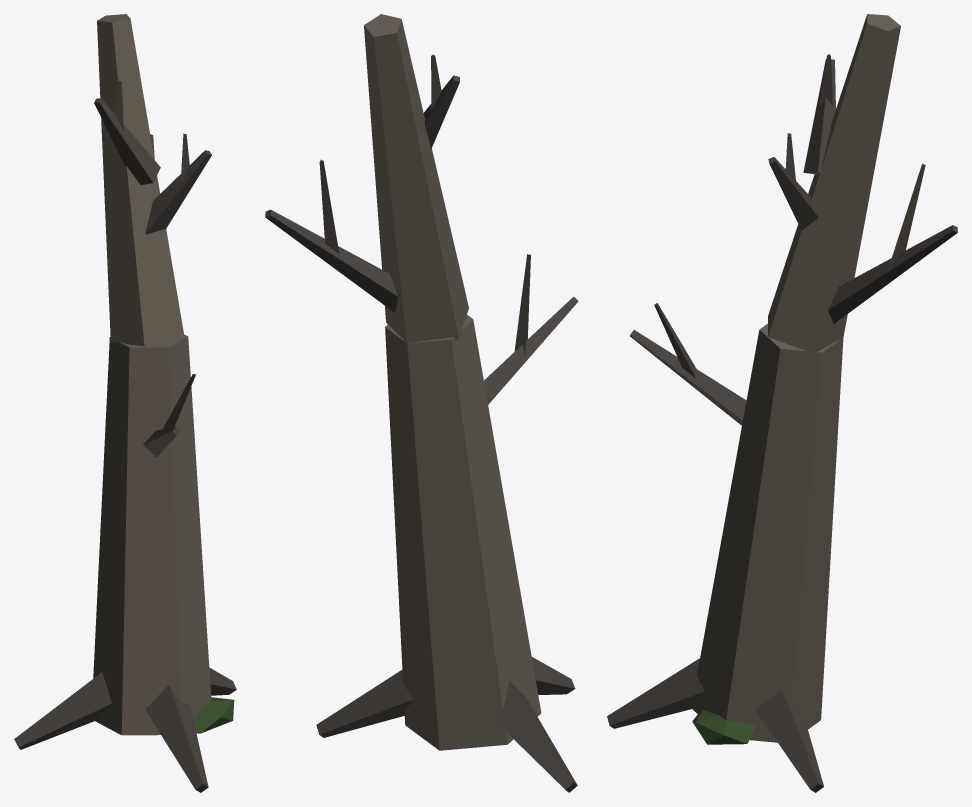
File: obj_tree_b.glb
3 views of the same model, side by side, from view 1: azimuth 30°, elevation 25°; view 2: azimuth 150°, elevation 25°; view 3: azimuth 270°, elevation 25° (orthographic). The views are drawn at different scales.
Visible parts, largest first — view 1: obj_tree_b; view 2: obj_tree_b; view 3: obj_tree_b.
Part boxes in pixels (<box>): obj_tree_b: <box>14,14,236,792</box>; obj_tree_b: <box>265,14,578,792</box>; obj_tree_b: <box>607,14,957,792</box>.
Size of the model in its own units: 0.724 by 2.1 by 0.9126.
